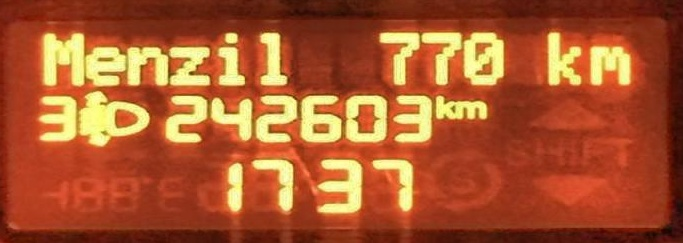0: (461, 29, 505, 85), (344, 93, 384, 141)
1: (221, 158, 245, 217)
2: (164, 94, 209, 145), (254, 91, 296, 142)
3: (314, 152, 364, 217), (31, 90, 77, 144), (392, 92, 432, 145)
4: (208, 93, 253, 142)
6: (299, 93, 341, 141)
7: (248, 153, 297, 213), (369, 153, 415, 214), (377, 25, 417, 89), (420, 25, 459, 83)
X: (40, 31, 82, 88), (543, 27, 583, 86), (254, 25, 293, 85), (167, 42, 210, 87), (81, 43, 125, 86), (215, 29, 247, 88), (587, 43, 632, 84), (126, 43, 167, 86), (454, 99, 488, 118), (435, 93, 454, 120)
